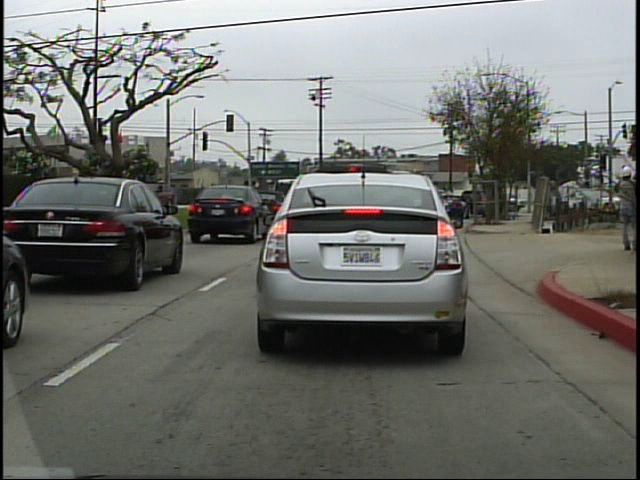person: (611, 158, 638, 258)
